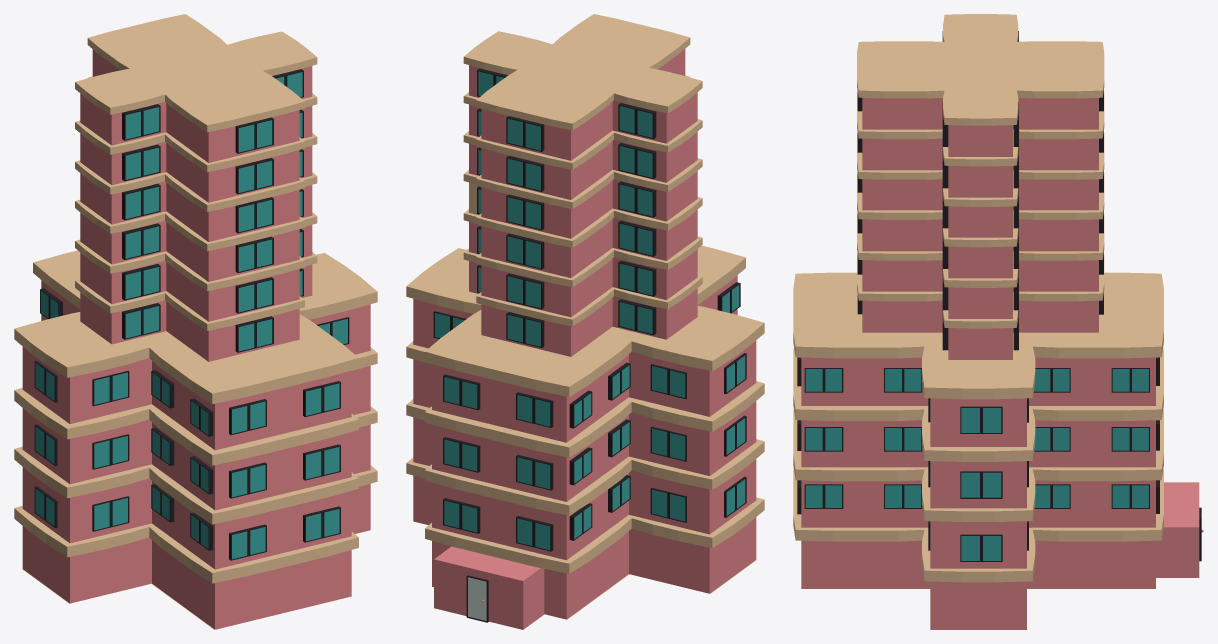
File: skyscraper3_medium.fbx
The picture shows the model from 3 angles, left to right: view 1: azimuth 30°, elevation 25°; view 2: azimuth 150°, elevation 25°; view 3: azimuth 270°, elevation 25°; orthographic projection. The views are drawn at different scales.
Parts seen in each view (by area): view 1: Plane.004, Plane, Plane.002, Plane.003, Cube.080, Cube.081, Cube.082, Cube.084, Cube.083, Cube.085, Cube.075, Cube.076 (+25 smaller); view 2: Plane.004, Plane, Plane.002, Plane.003, Cube, Cube.069, Cube.070, Cube.068, Cube.071, Cube.072, Cube.073, Cube.008 (+26 smaller); view 3: Plane.004, Plane.003, Plane, Plane.002, Cube, Cube.038, Cube.039, Cube.040, Cube.020, Cube.022, Cube.024, Cube.015 (+8 smaller).
Boxes of the visible parts, x1=… form: Plane.004: x1=22, y1=280, x2=370, y2=629; Plane: x1=14, y1=250, x2=377, y2=629; Plane.002: x1=75, y1=14, x2=317, y2=330; Plane.003: x1=80, y1=49, x2=312, y2=361; Cube.080: x1=122, y1=303, x2=160, y2=339; Cube.081: x1=122, y1=264, x2=160, y2=300; Cube.082: x1=122, y1=223, x2=160, y2=259; Cube.084: x1=122, y1=144, x2=160, y2=181; Cube.083: x1=122, y1=183, x2=160, y2=220; Cube.085: x1=122, y1=104, x2=160, y2=140; Cube.075: x1=235, y1=277, x2=273, y2=313; Cube.076: x1=235, y1=236, x2=273, y2=272; Plane.004: x1=413, y1=275, x2=756, y2=619; Plane: x1=406, y1=245, x2=764, y2=619; Plane.002: x1=463, y1=14, x2=702, y2=326; Plane.003: x1=469, y1=49, x2=697, y2=356; Cube: x1=434, y1=546, x2=544, y2=629; Cube.069: x1=618, y1=260, x2=656, y2=296; Cube.070: x1=618, y1=220, x2=656, y2=256; Cube.068: x1=618, y1=299, x2=656, y2=335; Cube.071: x1=618, y1=181, x2=656, y2=217; Cube.072: x1=618, y1=143, x2=656, y2=179; Cube.073: x1=618, y1=103, x2=656, y2=139; Cube.008: x1=506, y1=273, x2=544, y2=309; Plane.004: x1=801, y1=357, x2=1155, y2=629; Plane.003: x1=862, y1=98, x2=1098, y2=359; Plane: x1=793, y1=272, x2=1163, y2=582; Plane.002: x1=857, y1=14, x2=1104, y2=328; Cube: x1=1156, y1=482, x2=1199, y2=577; Cube.038: x1=960, y1=534, x2=1002, y2=561; Cube.039: x1=960, y1=471, x2=1002, y2=498; Cube.040: x1=960, y1=406, x2=1002, y2=433; Cube.020: x1=804, y1=484, x2=843, y2=508; Cube.022: x1=804, y1=427, x2=843, y2=451; Cube.024: x1=804, y1=368, x2=843, y2=392; Cube.015: x1=1111, y1=484, x2=1149, y2=508.
Size of the model in its own units: 3694 by 5384 by 4089.
4 materials, 2 textured.
